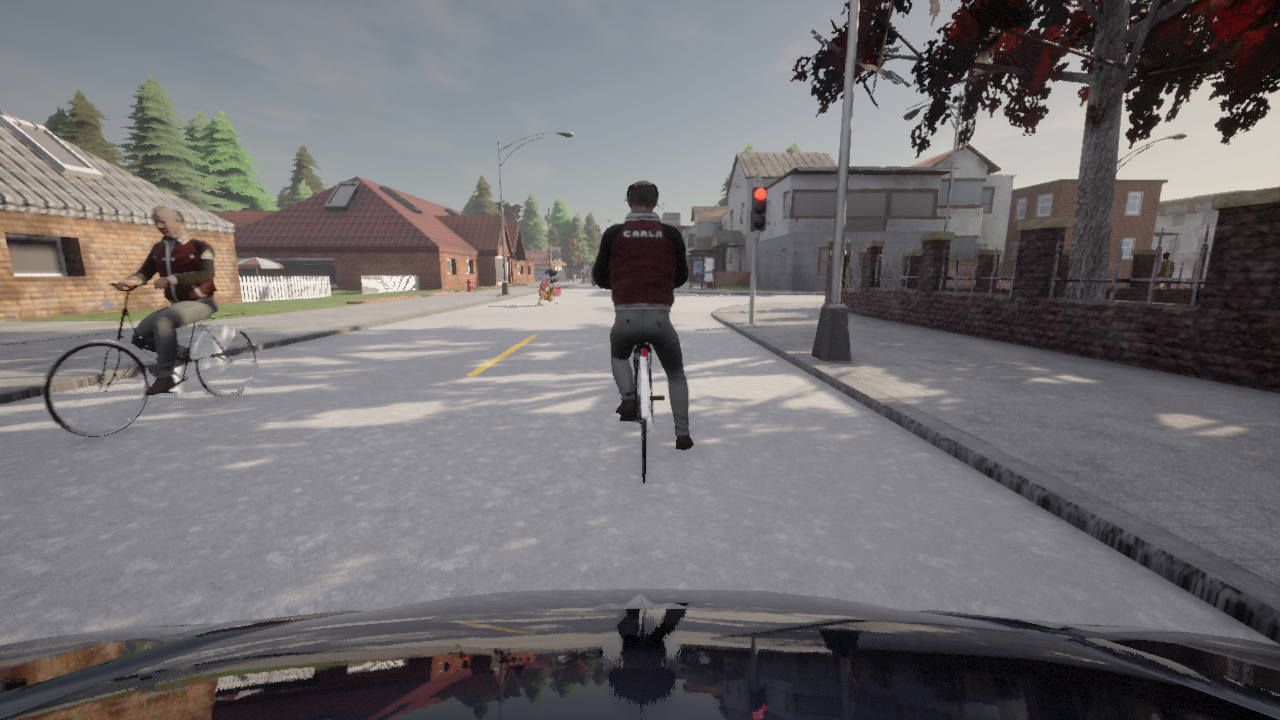cyclist: (0, 588, 1279, 719), (43, 283, 256, 437), (619, 342, 664, 482), (536, 271, 561, 306), (592, 277, 595, 286)
pedestrian: (1155, 251, 1176, 286), (691, 272, 692, 284)
